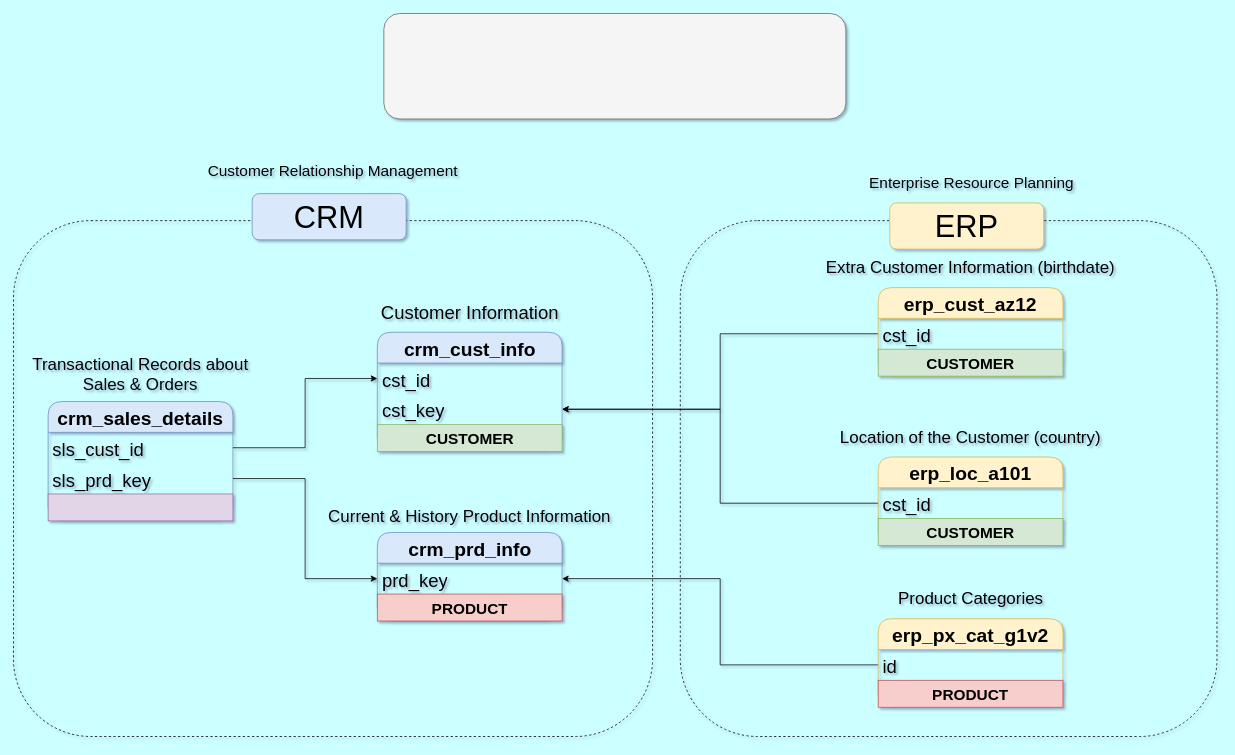
Image size: 1235x755. Some labels were removed from this diagram. The shapes that lost their labels are listed below. From the top down, each one's centre as x and y in pixels, then its label:
At (x=614, y=66): "Data Integration How the tables are related".
At (x=140, y=507): "SALES".
